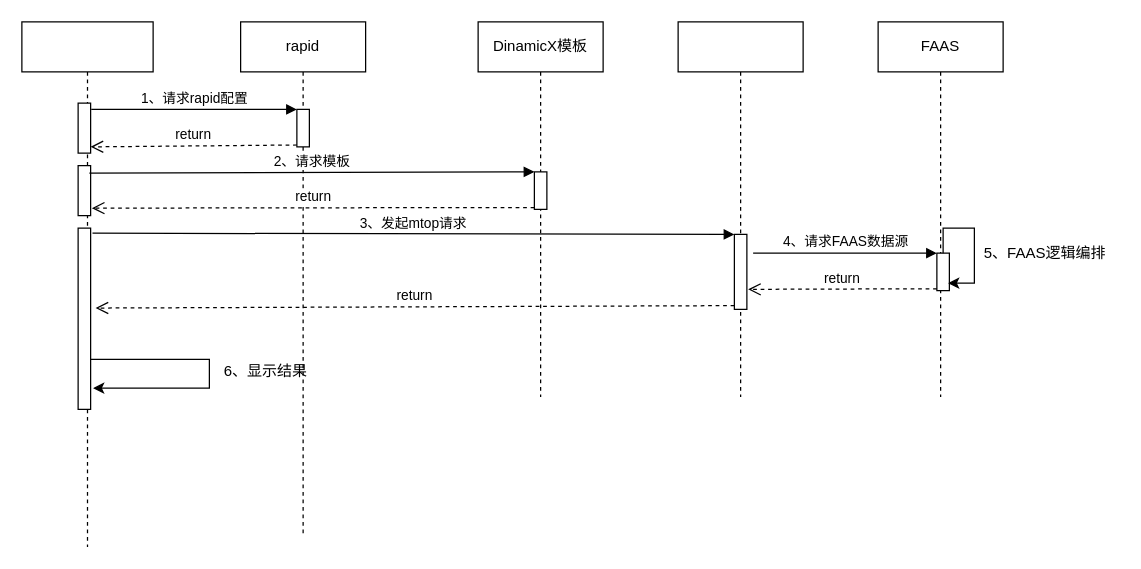
This 1141x569 diagram has some shape labels left out. The box of each missing label's shape, as (x1, y1, x2, y2) in pixels:
mtop： 统一接入层: (677, 21, 803, 397)
我淘客户端: (21, 21, 153, 547)
